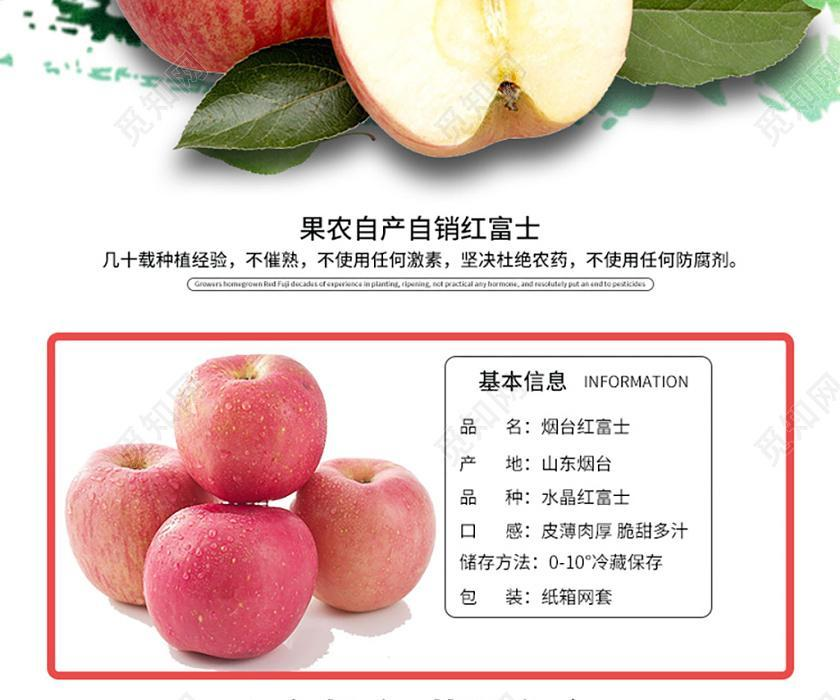apple: (141, 500, 319, 659), (65, 443, 219, 609), (170, 350, 329, 506), (290, 452, 436, 611)
